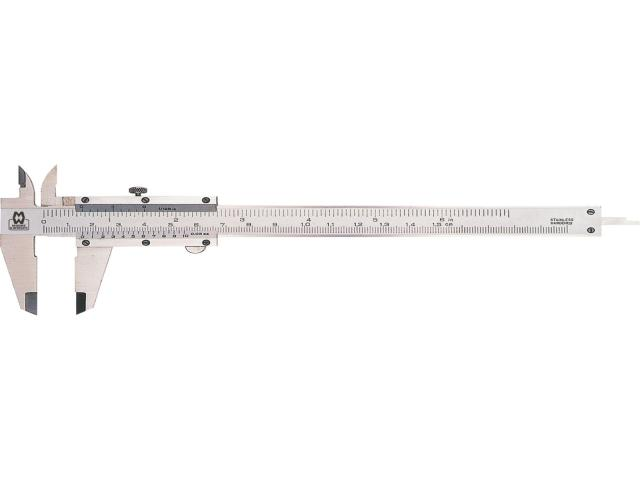Calipers: (0, 167, 638, 314)
